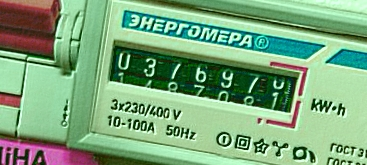0: (114, 47, 131, 71)
1: (267, 89, 281, 111)
3: (141, 55, 158, 78)
6: (192, 59, 210, 84)
7: (166, 56, 184, 82), (243, 70, 261, 95)
9: (217, 65, 235, 89)
screen: (95, 25, 313, 132)
